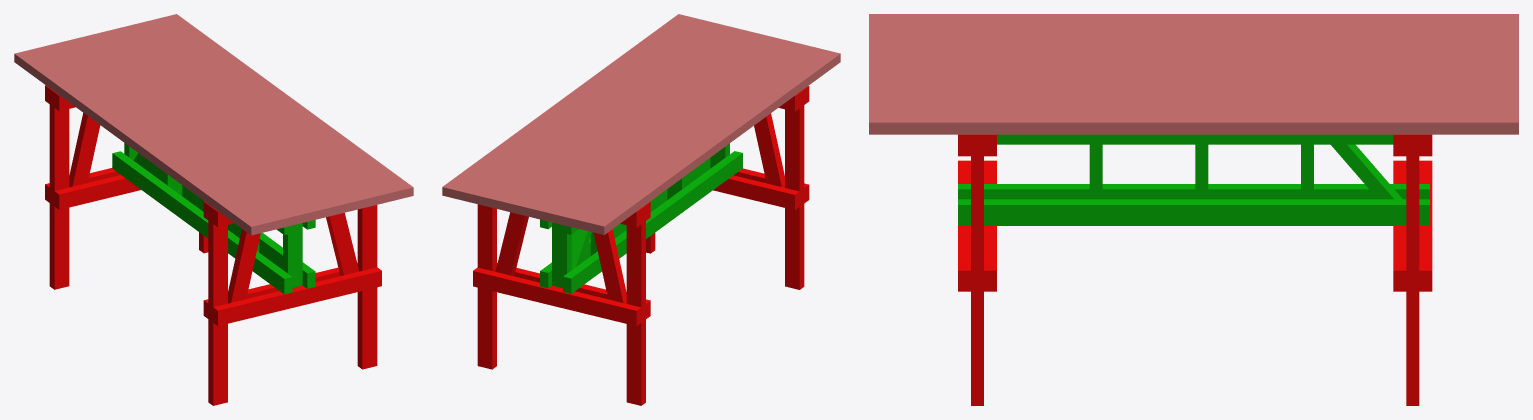
Rendered from result.glb.
The picture shows the model from 3 angles, left to right: view 1: azimuth 30°, elevation 25°; view 2: azimuth 150°, elevation 25°; view 3: azimuth 270°, elevation 25°; orthographic projection. The views are drawn at different scales.
Parts seen in each view (by area): view 1: a1f87304-e13d-4d18-9816-6f6beda29ce0__Box, 8c5c4873-f6ae-476e-b025-708976b9cb4c__undefined, 292a5fdd-a2ee-42b7-b00e-486803e21c4e__undefined, 02453431-f569-4880-9ee4-ce4a4d79c825__undefined, b591bfaa-5388-4f0a-a668-097f3ff0cf88__undefined, 56f20105-27ba-4dea-b374-4c2789032dfd__undefined, bfb0c53a-bcbe-49d7-957d-4d1796a06f6d__undefined, b66d8ebe-84d4-45cb-897d-35c1e7881151__undefined, 43a677e0-6451-4e10-92e5-8bce55e166e1__undefined, dcf6cf6b-8897-458b-8171-3847c2a550f6__undefined, 1b97b020-cf84-417b-b3e8-e32471572b8a__undefined, 75e39f86-1822-446e-9912-926328a101ca__undefined (+12 smaller); view 2: a1f87304-e13d-4d18-9816-6f6beda29ce0__Box, dcf6cf6b-8897-458b-8171-3847c2a550f6__undefined, 43a677e0-6451-4e10-92e5-8bce55e166e1__undefined, b591bfaa-5388-4f0a-a668-097f3ff0cf88__undefined, 8c5c4873-f6ae-476e-b025-708976b9cb4c__undefined, 02453431-f569-4880-9ee4-ce4a4d79c825__undefined, bfb0c53a-bcbe-49d7-957d-4d1796a06f6d__undefined, 1b97b020-cf84-417b-b3e8-e32471572b8a__undefined, 292a5fdd-a2ee-42b7-b00e-486803e21c4e__undefined, 56f20105-27ba-4dea-b374-4c2789032dfd__undefined, b66d8ebe-84d4-45cb-897d-35c1e7881151__undefined, 34a10946-d973-4b99-9182-5e6192cc222d__sideV (+13 smaller); view 3: b66d8ebe-84d4-45cb-897d-35c1e7881151__undefined, 411637ff-4e11-4fa0-8a58-e4900e6c10c0__strutH, 292a5fdd-a2ee-42b7-b00e-486803e21c4e__undefined, 02453431-f569-4880-9ee4-ce4a4d79c825__undefined, 43a677e0-6451-4e10-92e5-8bce55e166e1__undefined, bfb0c53a-bcbe-49d7-957d-4d1796a06f6d__undefined, 8c5c4873-f6ae-476e-b025-708976b9cb4c__undefined, a1f87304-e13d-4d18-9816-6f6beda29ce0__Box, 56f20105-27ba-4dea-b374-4c2789032dfd__undefined, b591bfaa-5388-4f0a-a668-097f3ff0cf88__undefined, dcf6cf6b-8897-458b-8171-3847c2a550f6__undefined, 1b97b020-cf84-417b-b3e8-e32471572b8a__undefined (+12 smaller).
Boxes of the visible parts, x1,y1,x2,y2 form: a1f87304-e13d-4d18-9816-6f6beda29ce0__Box: (14, 50, 265, 235); 8c5c4873-f6ae-476e-b025-708976b9cb4c__undefined: (103, 28, 354, 213); 292a5fdd-a2ee-42b7-b00e-486803e21c4e__undefined: (44, 43, 295, 227); 02453431-f569-4880-9ee4-ce4a4d79c825__undefined: (59, 39, 310, 224); b591bfaa-5388-4f0a-a668-097f3ff0cf88__undefined: (118, 25, 369, 209); 56f20105-27ba-4dea-b374-4c2789032dfd__undefined: (29, 46, 280, 231); bfb0c53a-bcbe-49d7-957d-4d1796a06f6d__undefined: (88, 32, 339, 217); b66d8ebe-84d4-45cb-897d-35c1e7881151__undefined: (162, 14, 413, 199); 43a677e0-6451-4e10-92e5-8bce55e166e1__undefined: (73, 35, 324, 220); dcf6cf6b-8897-458b-8171-3847c2a550f6__undefined: (133, 21, 383, 206); 1b97b020-cf84-417b-b3e8-e32471572b8a__undefined: (147, 17, 398, 202); 75e39f86-1822-446e-9912-926328a101ca__undefined: (49, 89, 69, 289); a1f87304-e13d-4d18-9816-6f6beda29ce0__Box: (589, 50, 840, 234); dcf6cf6b-8897-458b-8171-3847c2a550f6__undefined: (471, 21, 722, 205); 43a677e0-6451-4e10-92e5-8bce55e166e1__undefined: (530, 35, 781, 220); b591bfaa-5388-4f0a-a668-097f3ff0cf88__undefined: (486, 25, 736, 209); 8c5c4873-f6ae-476e-b025-708976b9cb4c__undefined: (501, 28, 751, 213); 02453431-f569-4880-9ee4-ce4a4d79c825__undefined: (545, 39, 795, 224); bfb0c53a-bcbe-49d7-957d-4d1796a06f6d__undefined: (516, 32, 766, 216); 1b97b020-cf84-417b-b3e8-e32471572b8a__undefined: (457, 17, 707, 202); 292a5fdd-a2ee-42b7-b00e-486803e21c4e__undefined: (560, 43, 810, 227); 56f20105-27ba-4dea-b374-4c2789032dfd__undefined: (575, 46, 825, 231); b66d8ebe-84d4-45cb-897d-35c1e7881151__undefined: (442, 14, 692, 198); 34a10946-d973-4b99-9182-5e6192cc222d__sideV: (785, 89, 804, 289); b66d8ebe-84d4-45cb-897d-35c1e7881151__undefined: (869, 113, 1518, 134); 411637ff-4e11-4fa0-8a58-e4900e6c10c0__strutH: (958, 199, 1429, 225); 292a5fdd-a2ee-42b7-b00e-486803e21c4e__undefined: (869, 33, 1518, 43); 02453431-f569-4880-9ee4-ce4a4d79c825__undefined: (869, 43, 1518, 53); 43a677e0-6451-4e10-92e5-8bce55e166e1__undefined: (869, 53, 1518, 63); bfb0c53a-bcbe-49d7-957d-4d1796a06f6d__undefined: (869, 63, 1518, 73); 8c5c4873-f6ae-476e-b025-708976b9cb4c__undefined: (869, 73, 1518, 83); a1f87304-e13d-4d18-9816-6f6beda29ce0__Box: (869, 14, 1518, 23); 56f20105-27ba-4dea-b374-4c2789032dfd__undefined: (869, 24, 1518, 33); b591bfaa-5388-4f0a-a668-097f3ff0cf88__undefined: (869, 83, 1518, 92); dcf6cf6b-8897-458b-8171-3847c2a550f6__undefined: (869, 93, 1518, 102); 1b97b020-cf84-417b-b3e8-e32471572b8a__undefined: (869, 103, 1518, 112).
Bounding box in the file's own units: 800 × 960 × 2000.
